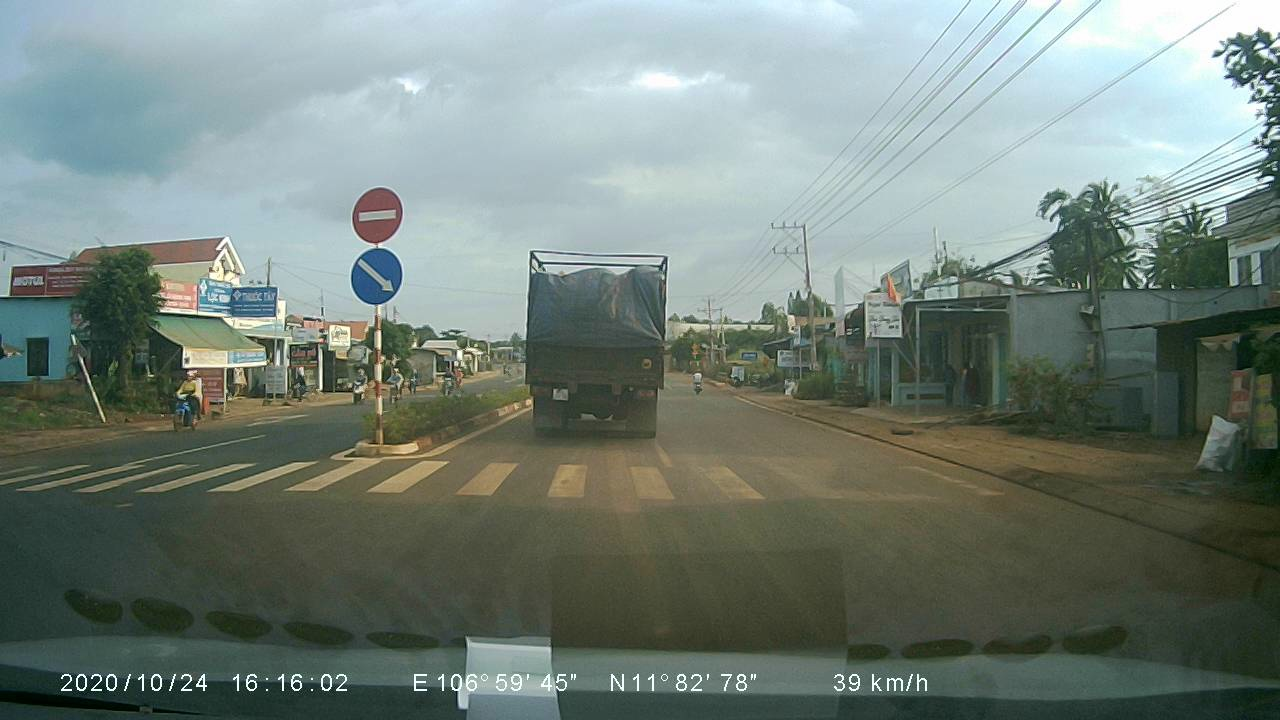Cam di nguoc chieu: (350, 182, 402, 242)
Huong di phai re phai: (350, 249, 405, 306)
